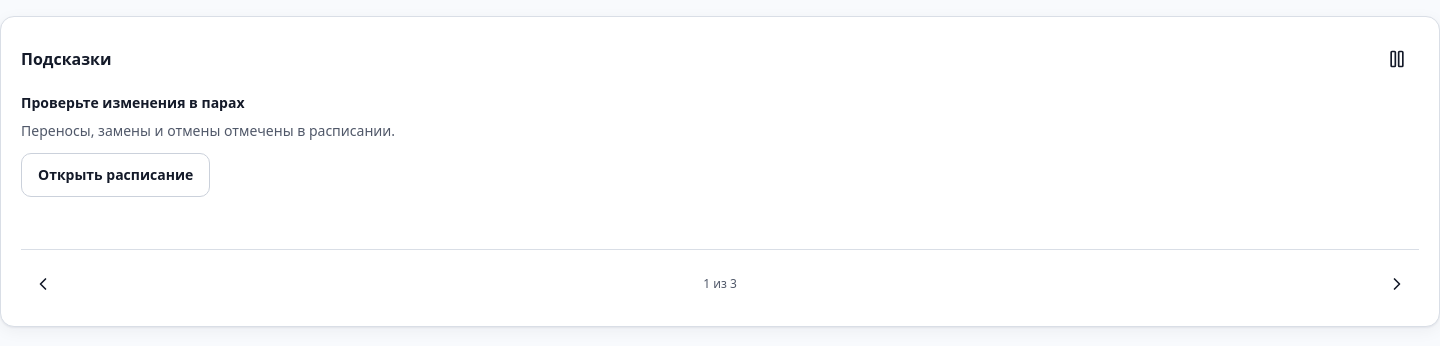
подсказки студента › автолистание возобновляется после ухода указателя или фокуса
Hover over the element "Подсказки" at (720, 172), box x1=0 y1=16 x2=1439 y2=327
Check: the heading "Проверьте изменения в парах" is shown, box x1=21 y1=93 x2=244 y2=112
Focus the button named "Следующая подсказка". click: (1397, 284)
box: x1=1375 y1=262 x2=1419 y2=306
Check: the heading "Проверьте изменения в парах" is shown, box x1=21 y1=93 x2=244 y2=112
Leave the button named "Следующая подсказка", box x1=1375 y1=262 x2=1419 y2=306
Wait 8000 ms
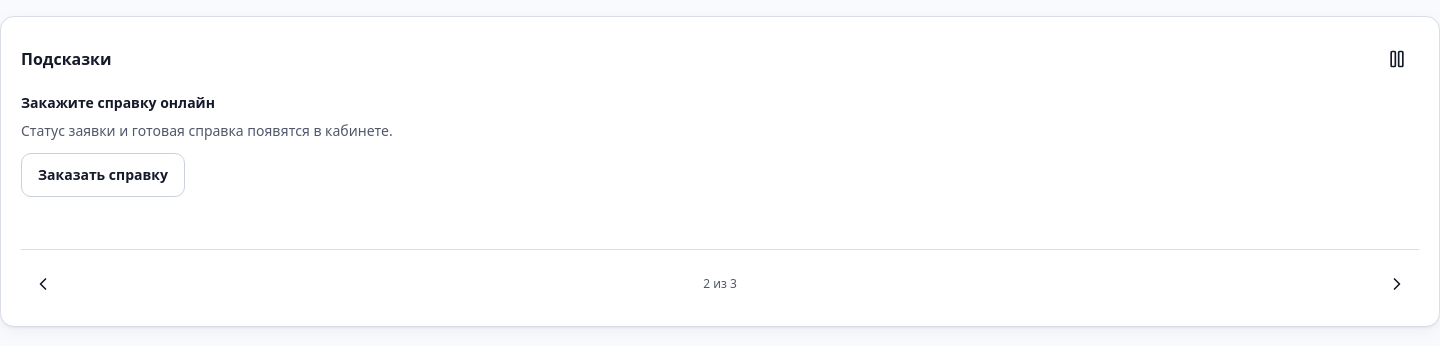
Check: the heading "Проверьте изменения в парах" no longer shows "Проверьте изменения в парах"
